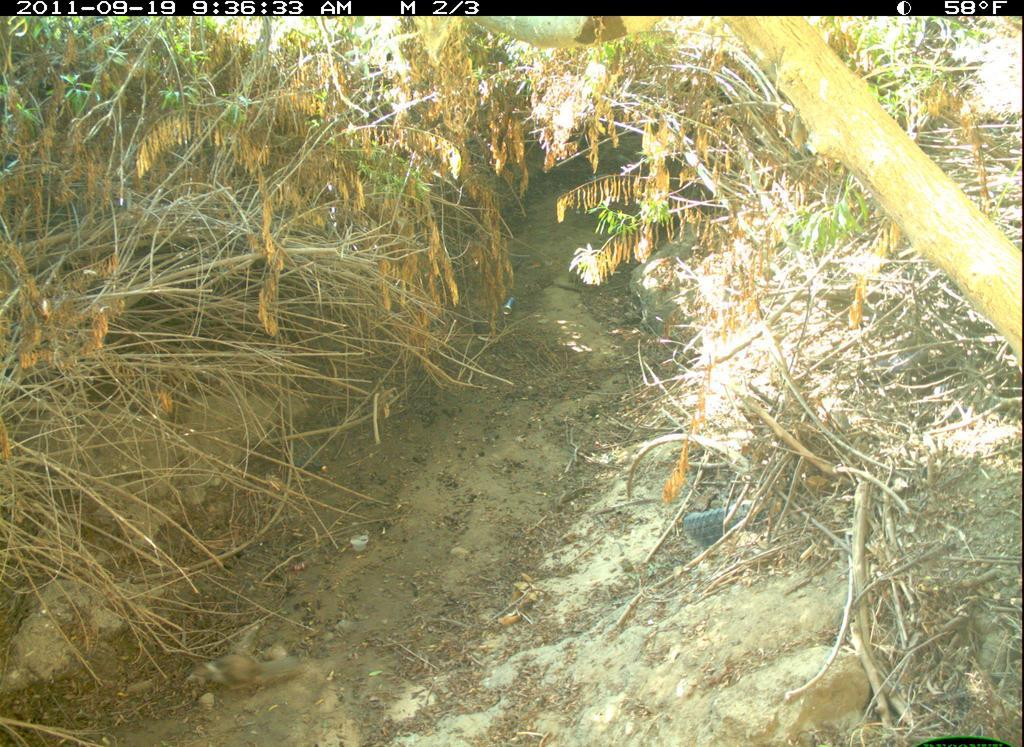squirrel: (182, 649, 310, 700)
